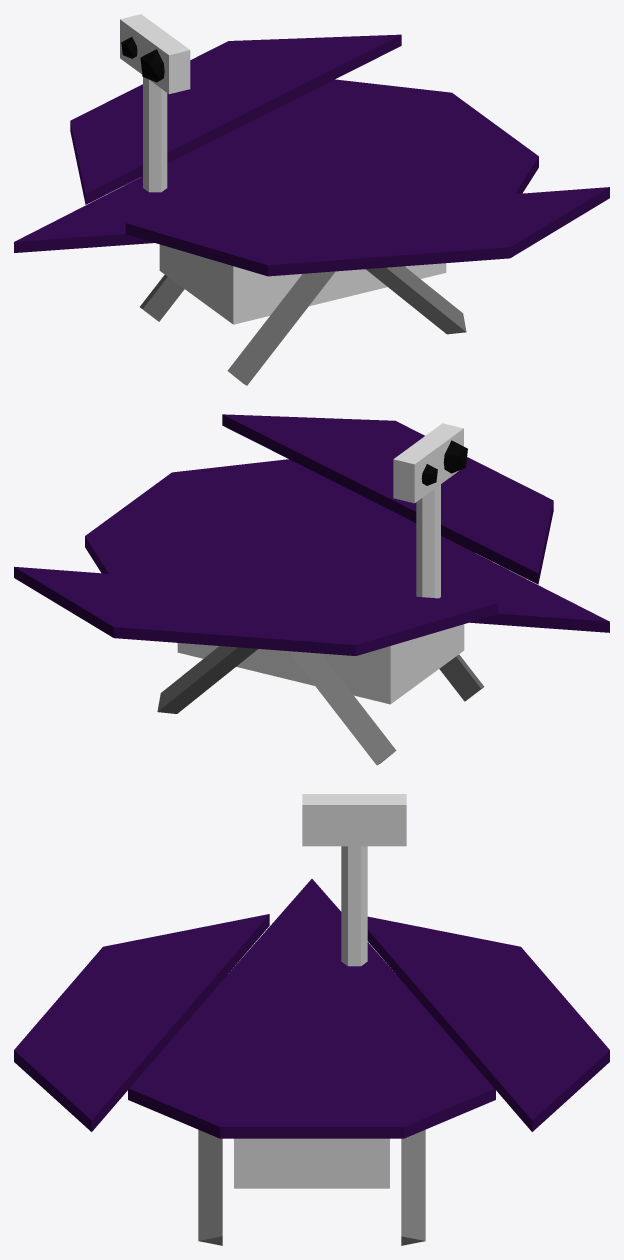
Rendered from rover.fbx.
3 renders of one model, top to bottom at view 1: azimuth 30°, elevation 25°; view 2: azimuth 150°, elevation 25°; view 3: azimuth 270°, elevation 25°, orthographic. The views are drawn at different scales.
Visible parts, largest first — view 1: Plane, Cube, Cylinder.002, Cube.001, Cylinder, Icosphere; view 2: Plane, Cube, Cylinder.002, Cube.001, Cylinder, Icosphere; view 3: Plane, Cube, Cube.001, Cylinder.002, Cylinder.
Boxes of the visible parts, bbox=[...] form: Plane: bbox=[14, 34, 609, 276]; Cube: bbox=[159, 244, 446, 324]; Cylinder.002: bbox=[140, 266, 466, 385]; Cube.001: bbox=[120, 14, 190, 94]; Cylinder: bbox=[143, 77, 167, 192]; Icosphere: bbox=[140, 49, 164, 82]; Plane: bbox=[14, 414, 609, 655]; Cube: bbox=[177, 624, 464, 704]; Cylinder.002: bbox=[157, 646, 484, 765]; Cube.001: bbox=[393, 423, 463, 503]; Cylinder: bbox=[416, 484, 440, 598]; Icosphere: bbox=[443, 440, 467, 473]; Plane: bbox=[14, 879, 609, 1138]; Cube: bbox=[234, 1138, 389, 1188]; Cube.001: bbox=[302, 794, 406, 846]; Cylinder.002: bbox=[198, 1129, 425, 1245]; Cylinder: bbox=[341, 846, 367, 966].
Bounding box in the file's own units: 462 × 278 × 458.
